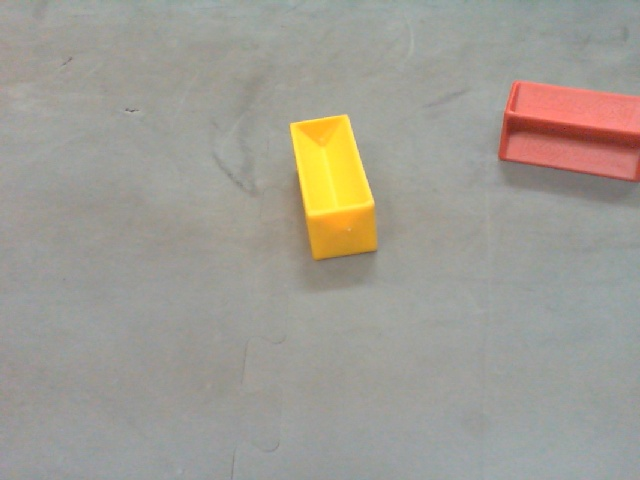RedSample: (499, 80, 640, 182)
YellowSample: (285, 114, 379, 263)
